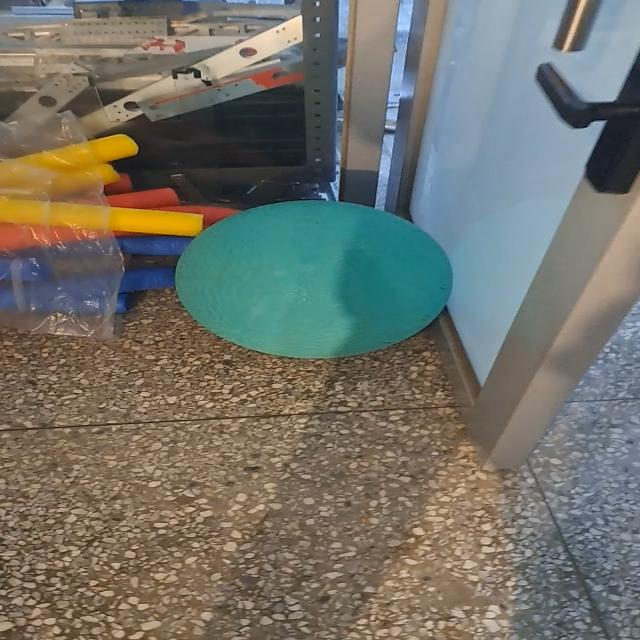ALGAE: (164, 197, 464, 364)
